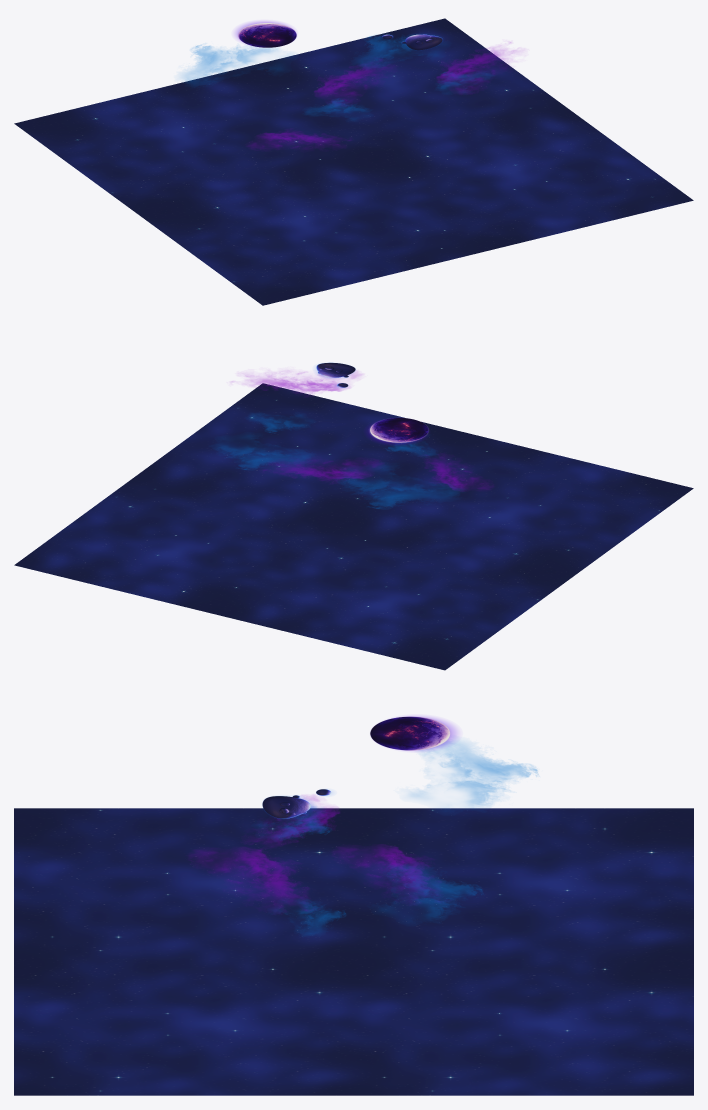
The model's file is BaackgroundElements.glb.
The picture shows the model from 3 angles, top to bottom: view 1: azimuth 30°, elevation 25°; view 2: azimuth 150°, elevation 25°; view 3: azimuth 270°, elevation 25°; orthographic projection. The views are drawn at different scales.
Visible parts, largest first — view 1: bg, nebula1.001, planet.001, nebula2.001, nebula2, nebula1, nebula2.002, beaverPlanet, nebula1.002; view 2: bg, nebula1.001, planet.001, nebula2.001, nebula1, nebula2, nebula2.002, beaverPlanet; view 3: bg, nebula1.001, planet.001, nebula2.001, nebula1, nebula2, nebula2.002, beaverPlanet, nebula1.003, nebula1.002.
Boxes of the visible parts, x1,y1,x2,y2 form: bg: (14, 18, 693, 305); nebula1.001: (182, 45, 281, 85); planet.001: (235, 21, 296, 47); nebula2.001: (437, 42, 516, 93); nebula2: (314, 60, 386, 103); nebula1: (358, 35, 437, 67); nebula2.002: (249, 131, 349, 148); beaverPlanet: (382, 34, 442, 50); nebula1.002: (306, 98, 366, 119); bg: (14, 383, 693, 670); nebula1.001: (343, 466, 458, 508); planet.001: (367, 418, 428, 444); nebula2.001: (232, 371, 361, 393); nebula1: (217, 435, 310, 469); nebula2: (264, 460, 381, 480); nebula2.002: (426, 455, 490, 490); beaverPlanet: (316, 362, 355, 387); bg: (14, 808, 693, 1095); nebula1.001: (411, 742, 538, 807); planet.001: (370, 716, 456, 750); nebula2.001: (194, 847, 307, 910); nebula1: (381, 865, 482, 919); nebula2: (338, 845, 434, 899); nebula2.002: (253, 795, 339, 849); beaverPlanet: (262, 789, 331, 818); nebula1.003: (275, 900, 345, 935); nebula1.002: (258, 806, 329, 838).
Bounding box in the file's own units: 2217 × 628 × 2217.
Materials: 2 (2 with a texture image).
